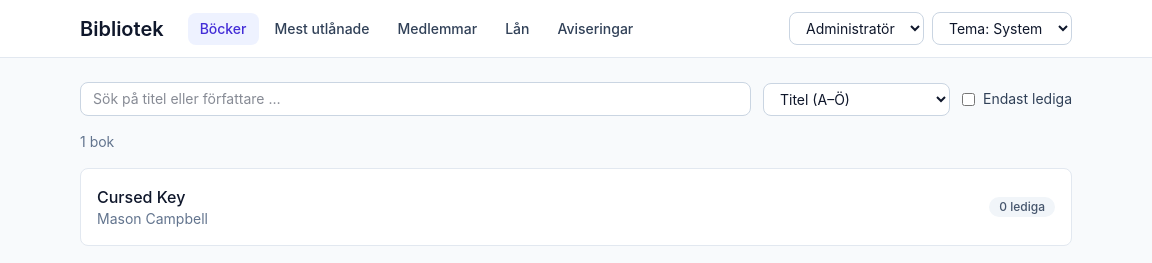
BooksPage › förklarar varför listan är tom
Click the checkbox labelled "Endast lediga" at (968, 99), box [962, 92, 975, 106]
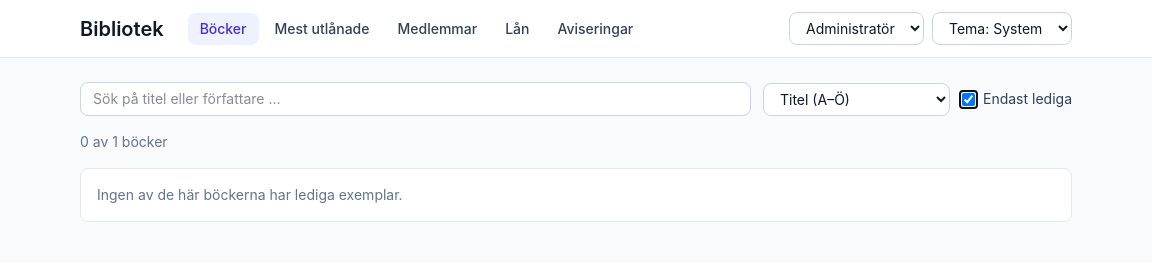
Expected: the text "Ingen av de här böckerna har lediga exemplar." is shown, [80, 168, 1072, 222]
